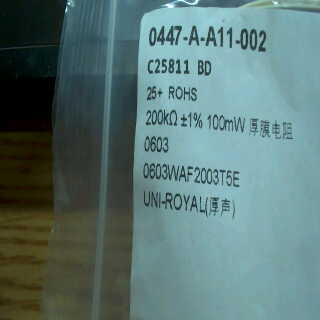200kR: (141, 105, 179, 130)
